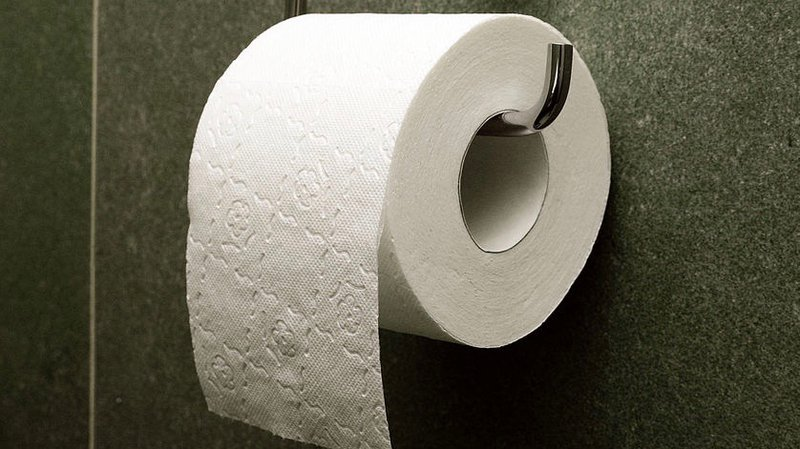Tissue: (174, 12, 615, 449)
